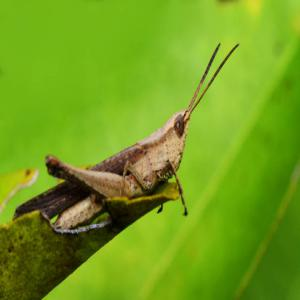locust: (16, 47, 237, 256)
